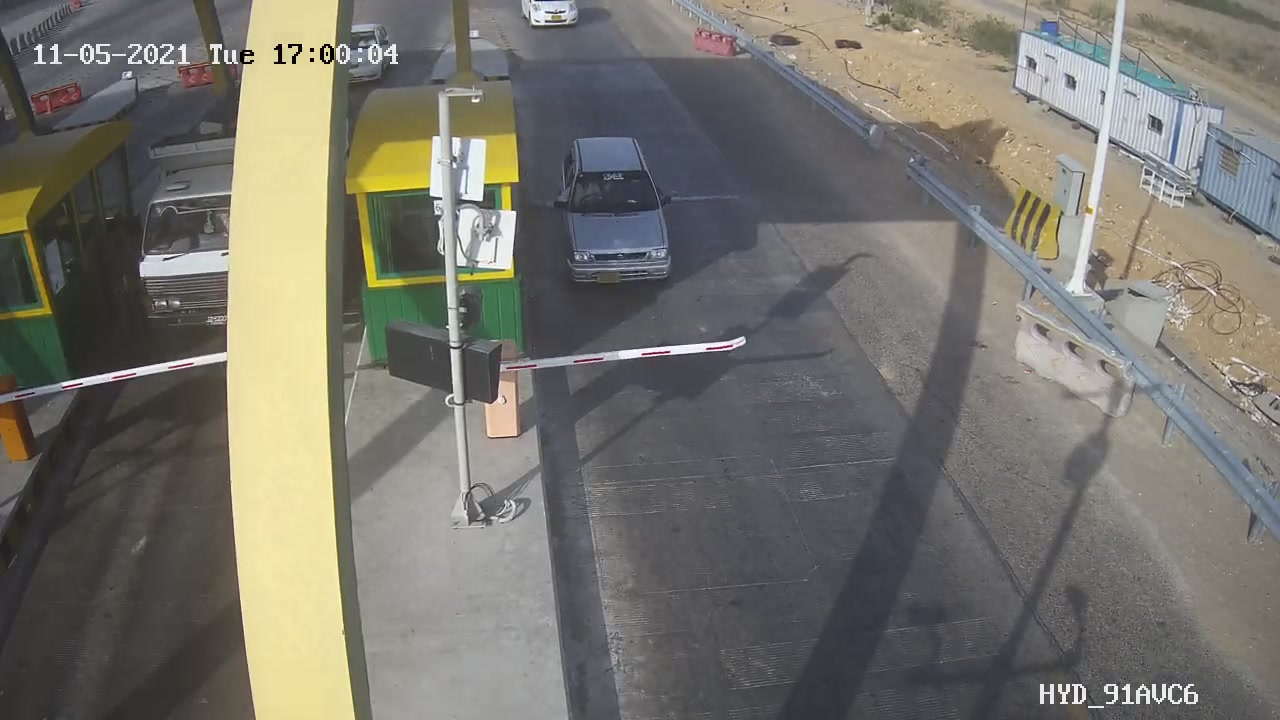F1: (542, 118, 695, 305)
